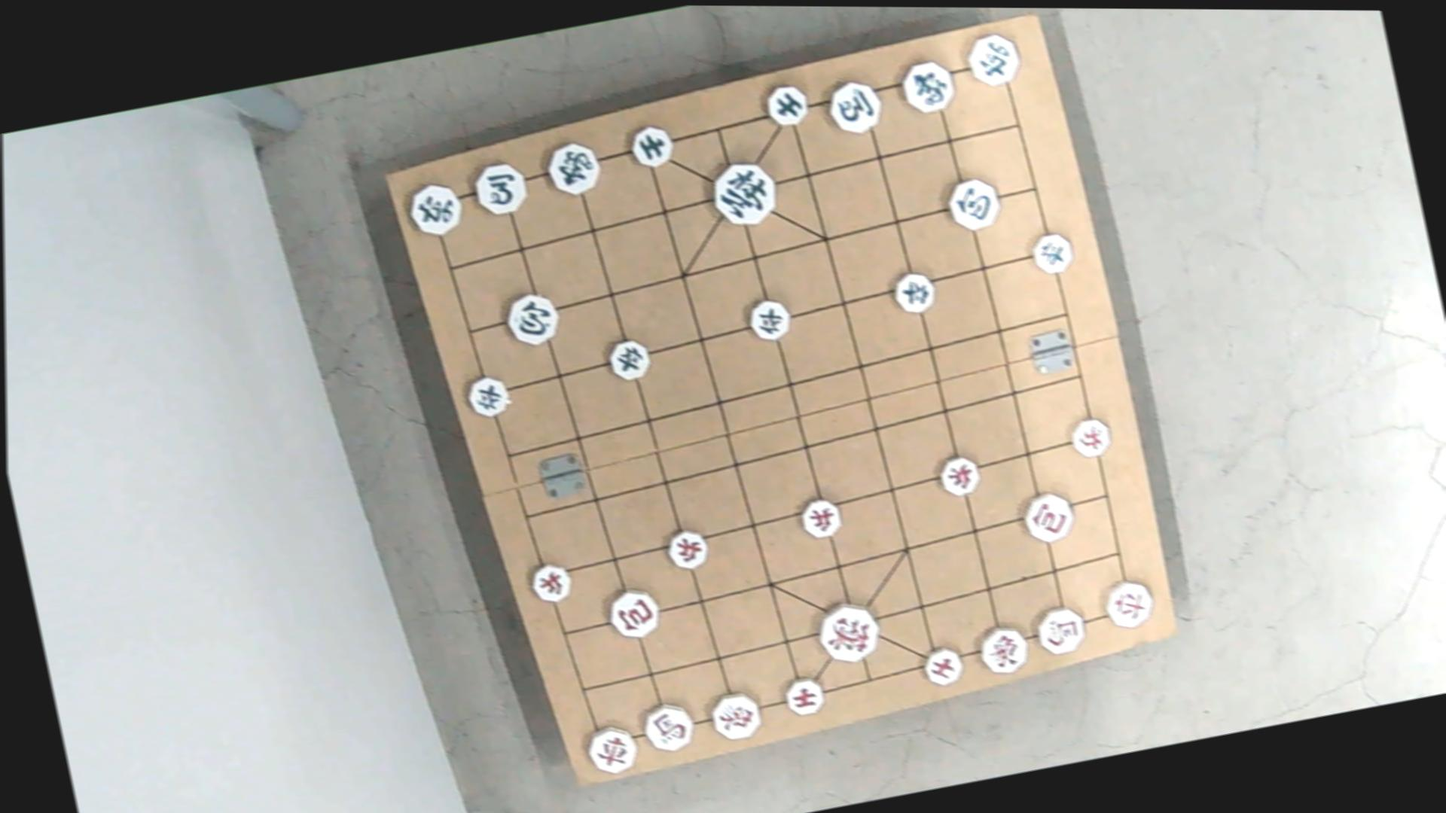cha_green: (401, 178, 466, 236), (962, 31, 1023, 88)
cha_red: (1099, 575, 1158, 630), (583, 724, 640, 775)
jol_green: (462, 374, 511, 419), (603, 338, 653, 382), (891, 269, 939, 314), (744, 297, 793, 341), (1025, 231, 1072, 275)
jol_red: (796, 496, 844, 539), (526, 560, 574, 603), (662, 526, 709, 569), (935, 452, 982, 495), (1066, 416, 1111, 458)
ma_green: (467, 155, 533, 218), (826, 78, 885, 135)
ma_red: (639, 698, 697, 751), (1033, 604, 1090, 655)
po_green: (502, 288, 563, 345), (942, 174, 1003, 230)
po_red: (602, 588, 660, 641), (1021, 491, 1077, 544)
sa_green: (761, 79, 810, 128), (624, 122, 674, 169)
sa_red: (918, 645, 965, 685), (781, 676, 825, 716)
sang_green: (897, 52, 959, 116), (543, 138, 603, 198)
sang_red: (706, 687, 765, 743), (975, 623, 1033, 675)
wang_green: (705, 157, 779, 227)
wang_red: (814, 598, 883, 662)
